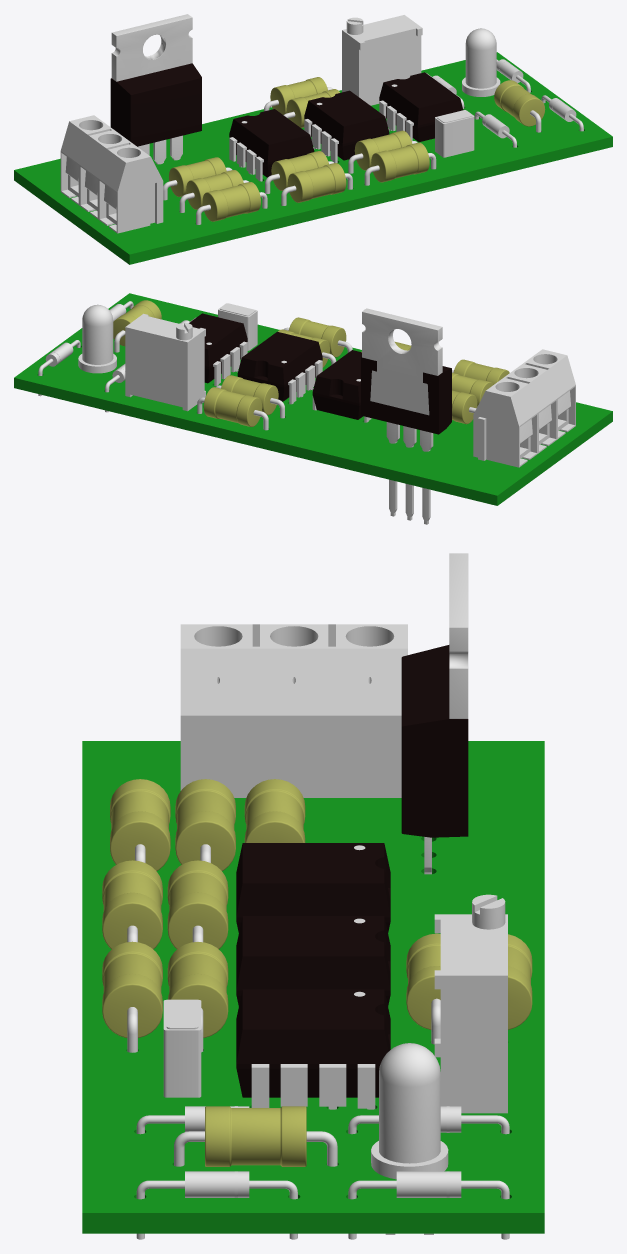
3 views of the same model, one above another, from view 1: azimuth 30°, elevation 25°; view 2: azimuth 150°, elevation 25°; view 3: azimuth 270°, elevation 25° (orthographic). The views are drawn at different scales.
Parts seen in each view (by area): view 1: Esquemaz_0; view 2: Esquemaz_0; view 3: Esquemaz_0.
Boxes of the visible parts, bbox=[...] form: Esquemaz_0: bbox=[14, 14, 612, 264]; Esquemaz_0: bbox=[14, 293, 612, 524]; Esquemaz_0: bbox=[82, 553, 544, 1239].
Size of the model in its own units: 73.63 by 29.98 by 30.47.
